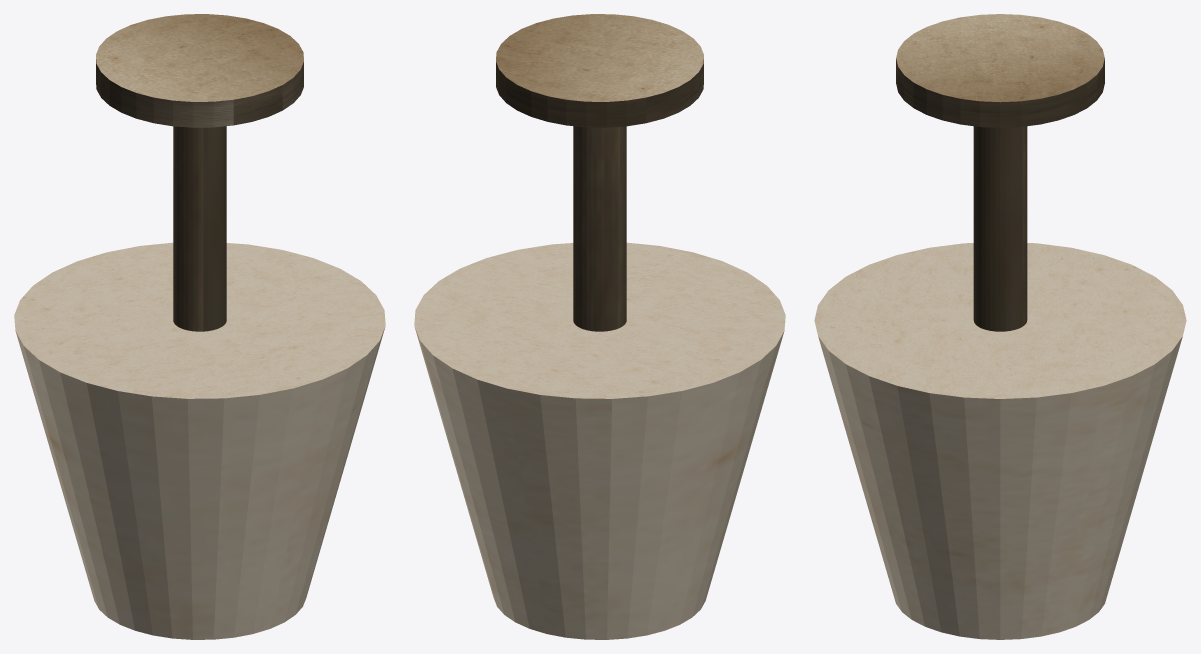
Rendered from lampada.fbx.
3 renders of one model, left to right at view 1: azimuth 30°, elevation 25°; view 2: azimuth 150°, elevation 25°; view 3: azimuth 270°, elevation 25°, orthographic.
Parts seen in each view (by area): view 1: Cylinder.001; view 2: Cylinder.001; view 3: Cylinder.001.
Boxes of the visible parts, left/top/right/bottom form: Cylinder.001: left=14, top=14, right=385, bottom=639; Cylinder.001: left=414, top=14, right=785, bottom=639; Cylinder.001: left=814, top=14, right=1186, bottom=639.
Bounding box in the file's own units: 200 × 318 × 200.
1 material, 1 textured.
